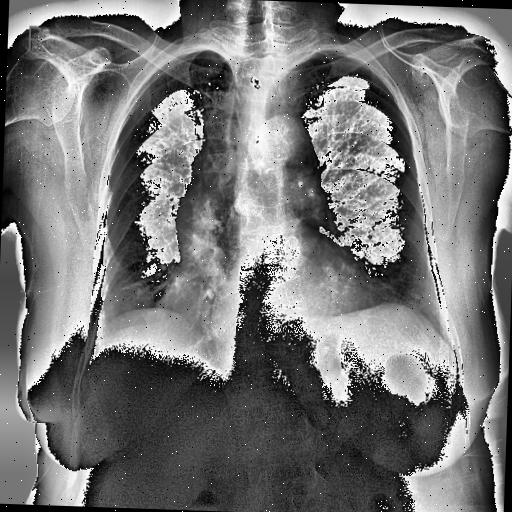0- Aortic enlargement: (176, 116, 322, 290), (255, 116, 324, 214), (253, 112, 312, 170)
3- Cardiomegaly: (155, 242, 389, 334), (150, 272, 398, 332)
8- Nodule-Mass: (173, 186, 228, 268)
9- Other lesion: (173, 186, 228, 268)
